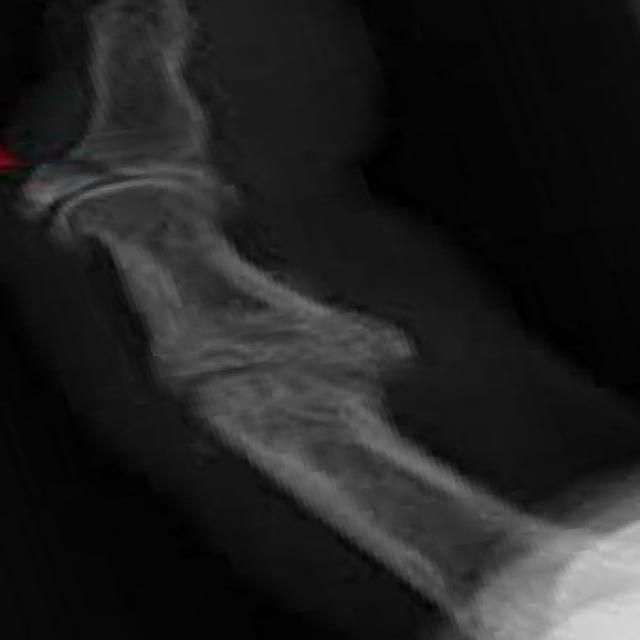Avulsion-fracture-: (19, 134, 142, 232)
